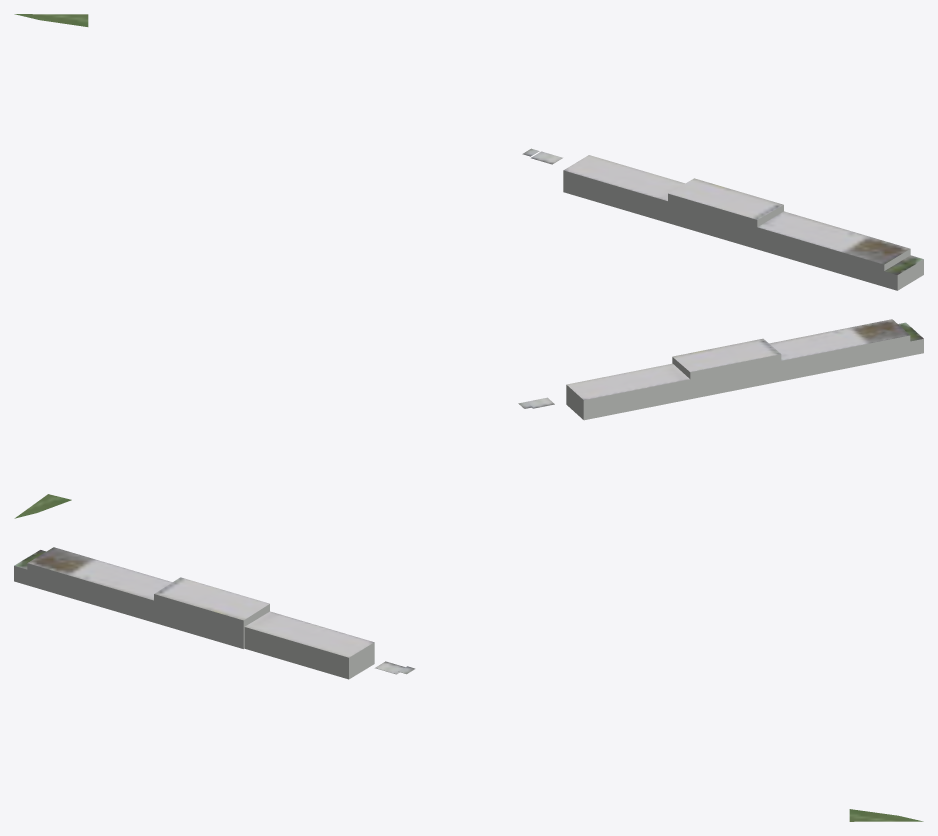
Rendered from LSZA_-1_0.glb.
3 renders of one model, top to bottom at view 1: azimuth 90°, elevation 25°; view 2: azimuth 150°, elevation 25°; view 3: azimuth 270°, elevation 25°, orthographic. The views are drawn at different scales.
Parts seen in each view (by area): view 1: building_7ac7aa5ff35ade88, building_3189e241c5d05e65, pavement_LSZA_pavement_5427_2192; view 2: building_7ac7aa5ff35ade88, building_3189e241c5d05e65, pavement_LSZA_pavement_5427_2192; view 3: building_7ac7aa5ff35ade88, building_3189e241c5d05e65, pavement_LSZA_pavement_5427_2192.
Boxes of the visible parts, <box> form: building_7ac7aa5ff35ade88: <box>563,170,923,290</box>; building_3189e241c5d05e65: <box>563,155,923,274</box>; pavement_LSZA_pavement_5427_2192: <box>14,14,88,26</box>; building_7ac7aa5ff35ade88: <box>566,335,923,420</box>; building_3189e241c5d05e65: <box>566,319,923,400</box>; pavement_LSZA_pavement_5427_2192: <box>14,494,71,518</box>; building_7ac7aa5ff35ade88: <box>14,563,374,679</box>; building_3189e241c5d05e65: <box>14,547,374,657</box>; pavement_LSZA_pavement_5427_2192: <box>849,809,923,821</box>.
Size of the model in its own units: 246 by 12.72 by 355.
Materials: 3 (2 with a texture image).
